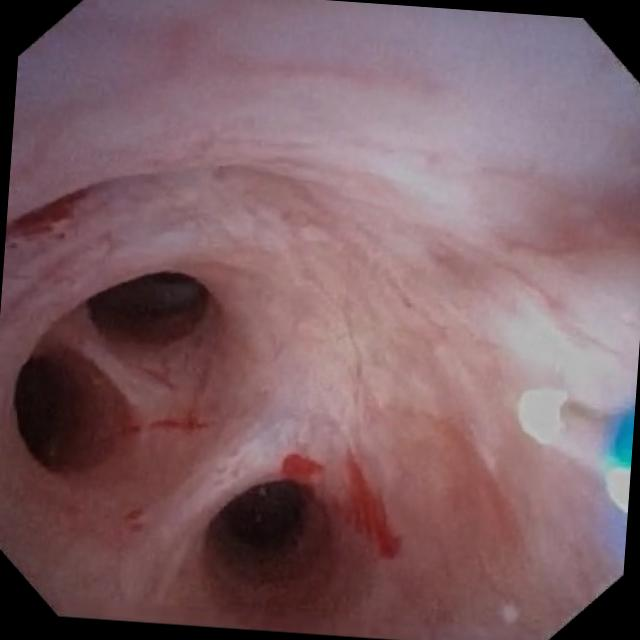laser-fibre: (518, 389, 617, 467)
